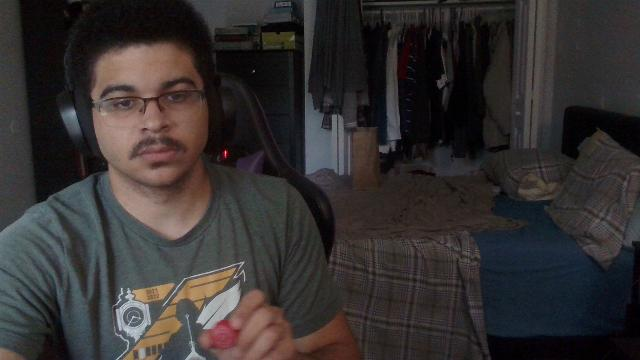cap: (212, 320, 238, 350)
